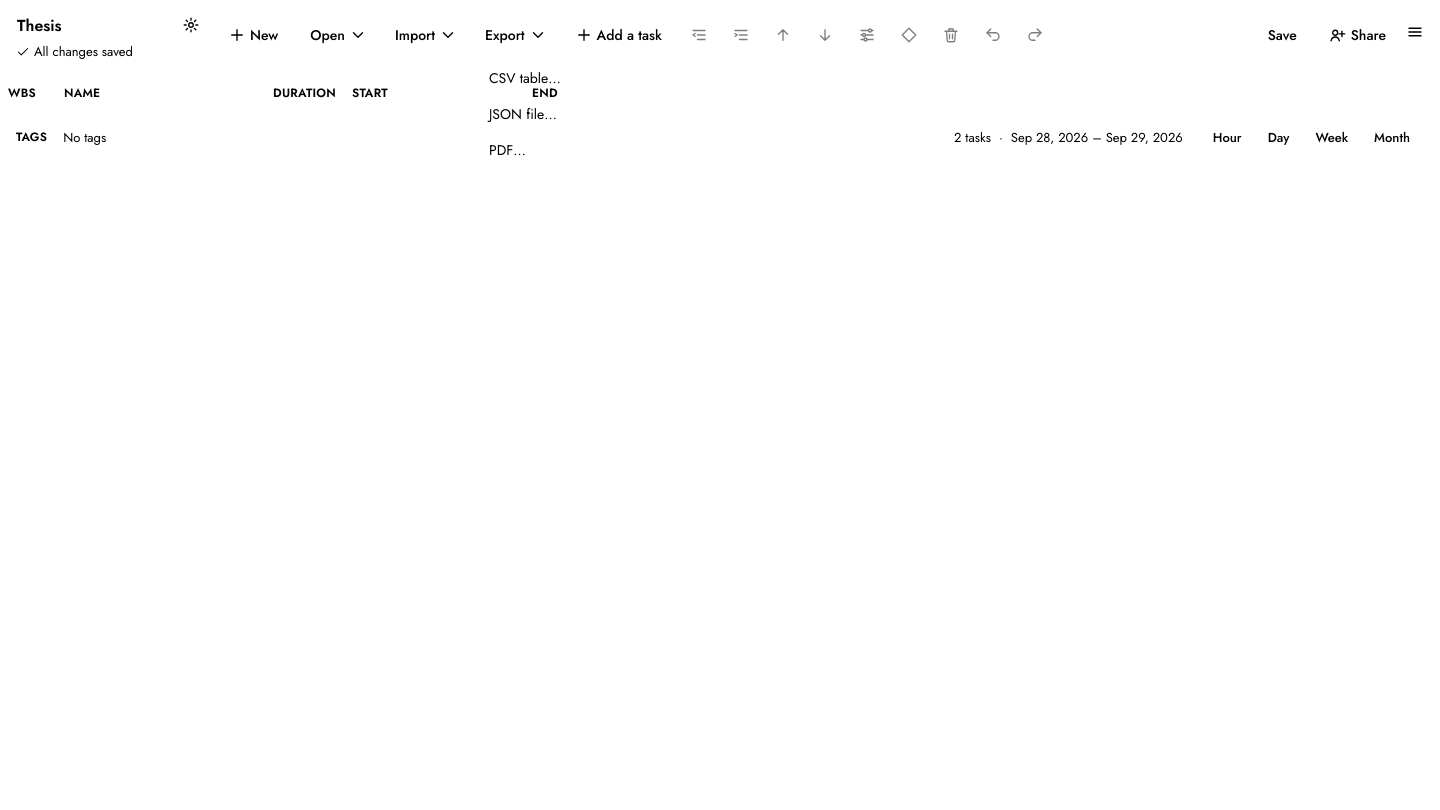
Test case: the export to PDF › prints chosen days, keeps them when a date cannot be read, and explains days that end before they start
The width and height of the screenshot is (1440, 810).
Click the menu item "PDF…".
click(563, 150)  # box [477,132,649,168]
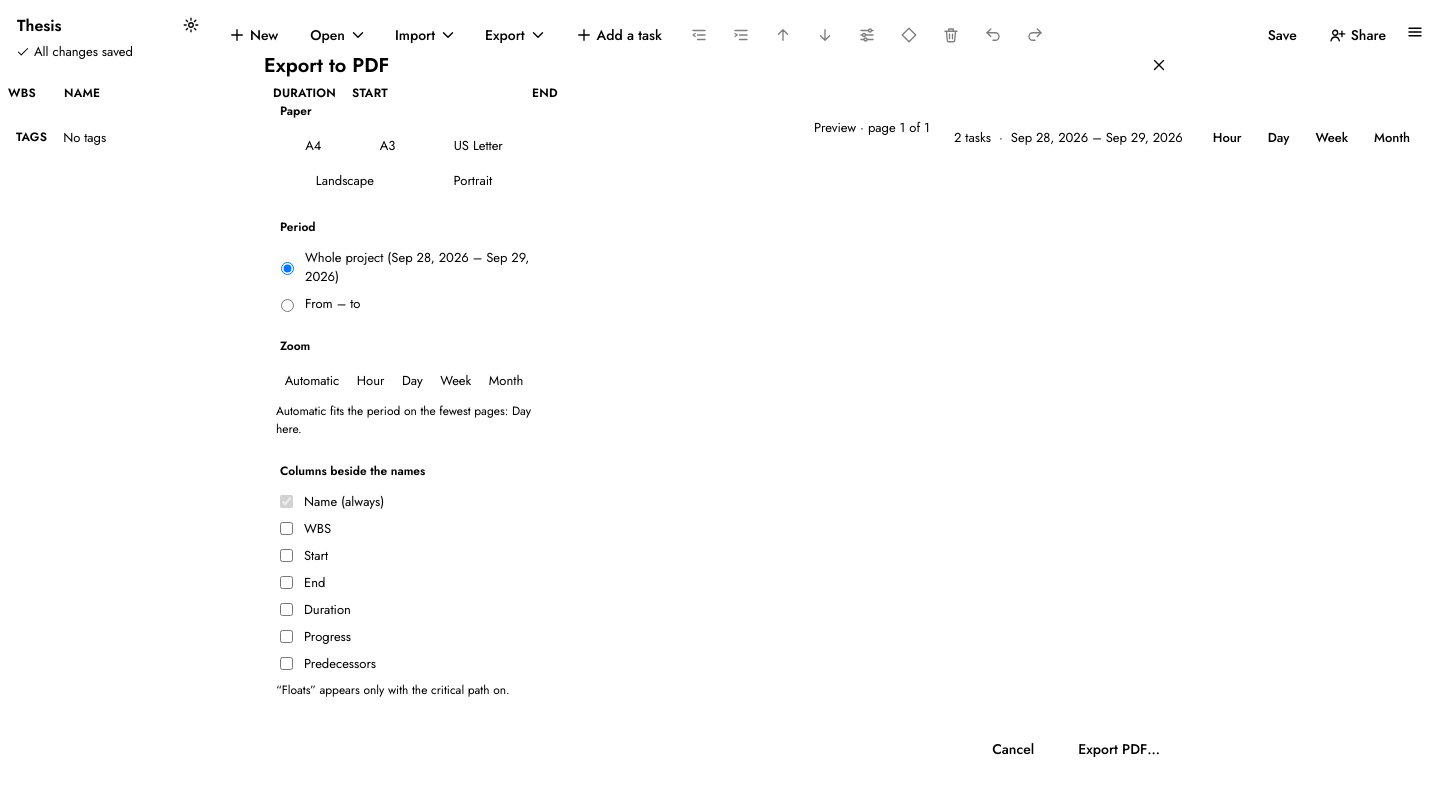
Click the radio button labelled "From – to".
click(288, 305)  # box [281,298,294,312]
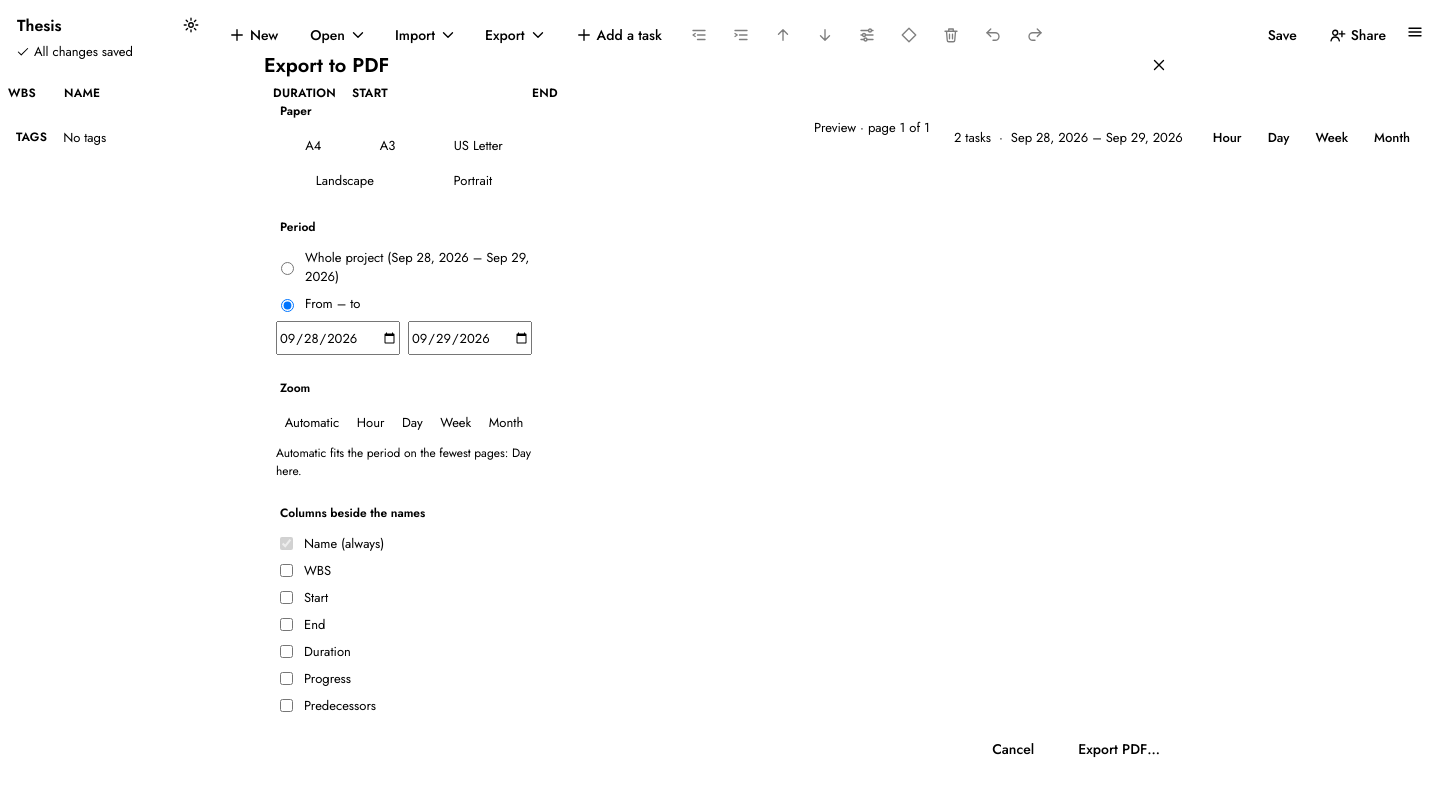
Clear the date field named "First day printed" at point(338, 338), box [276,321,400,355]
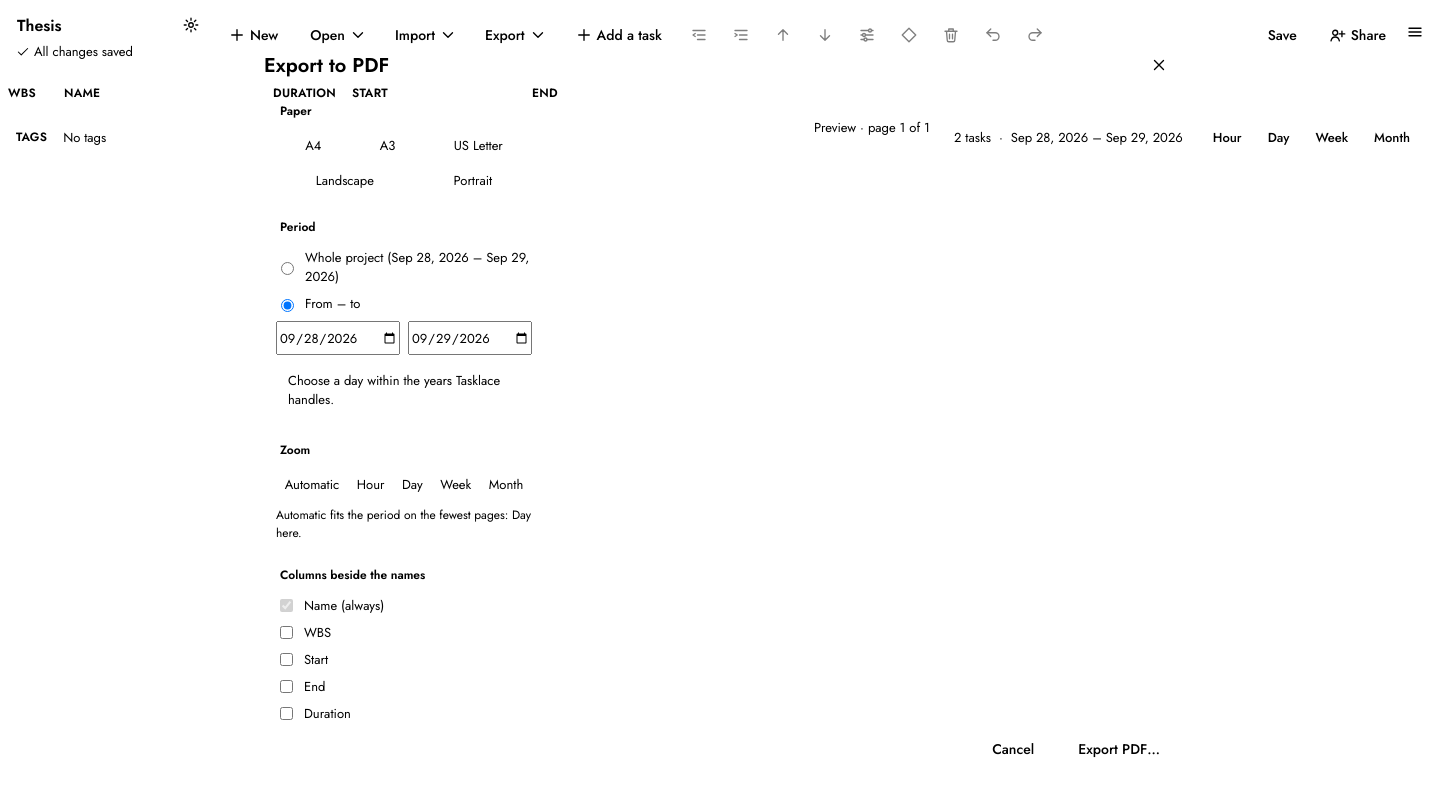
Type "2026-10-05" into the date field named "First day printed".
click(338, 338); type("2026-10-05")  # box [276,321,400,355]
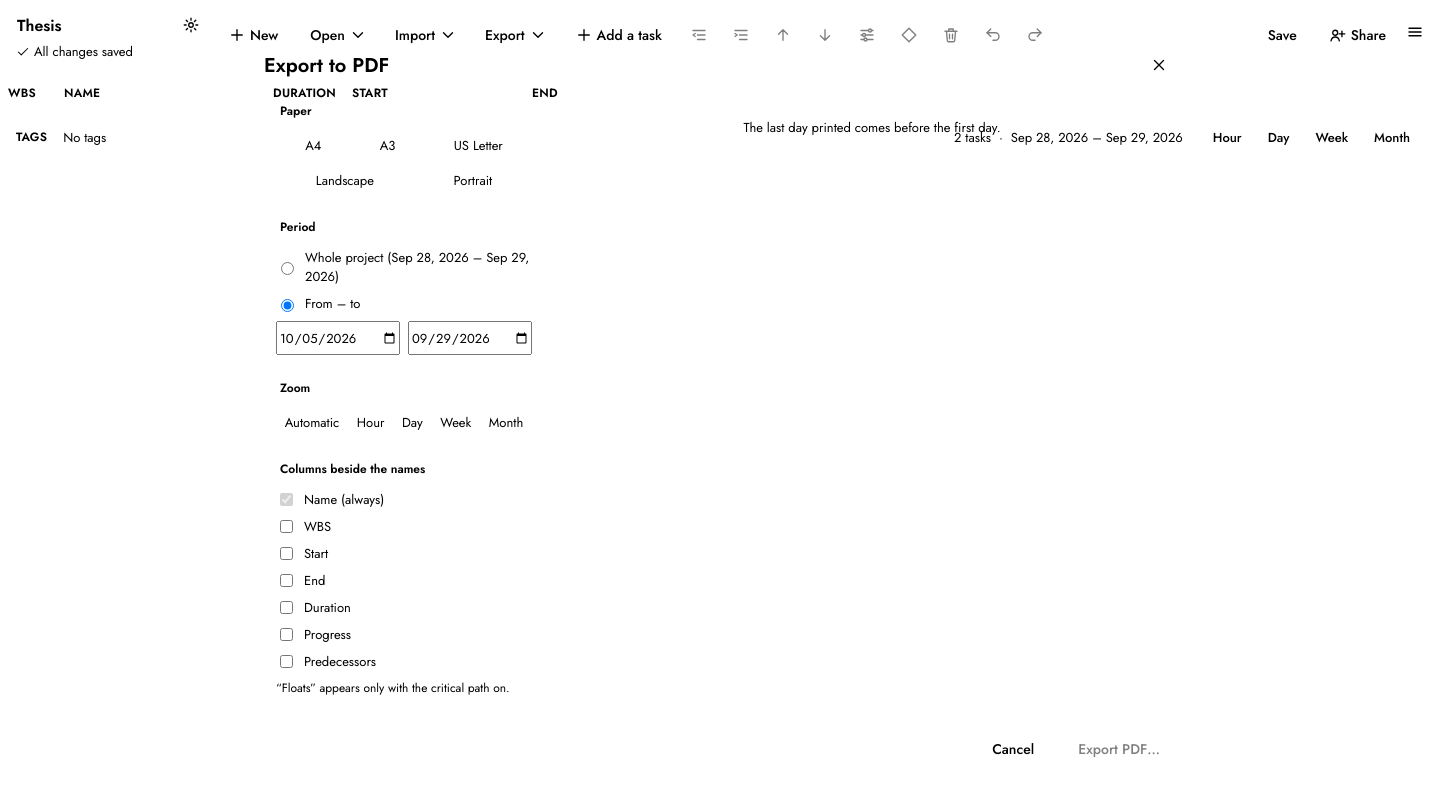
expect the message "The last day printed comes before the first day." is shown: met, box [743,118,1001,137]
Click the radio button labelled "Whole project (Sep 28, 2026 – Sep 29, 2026)".
click(288, 268)  # box [281,262,294,275]
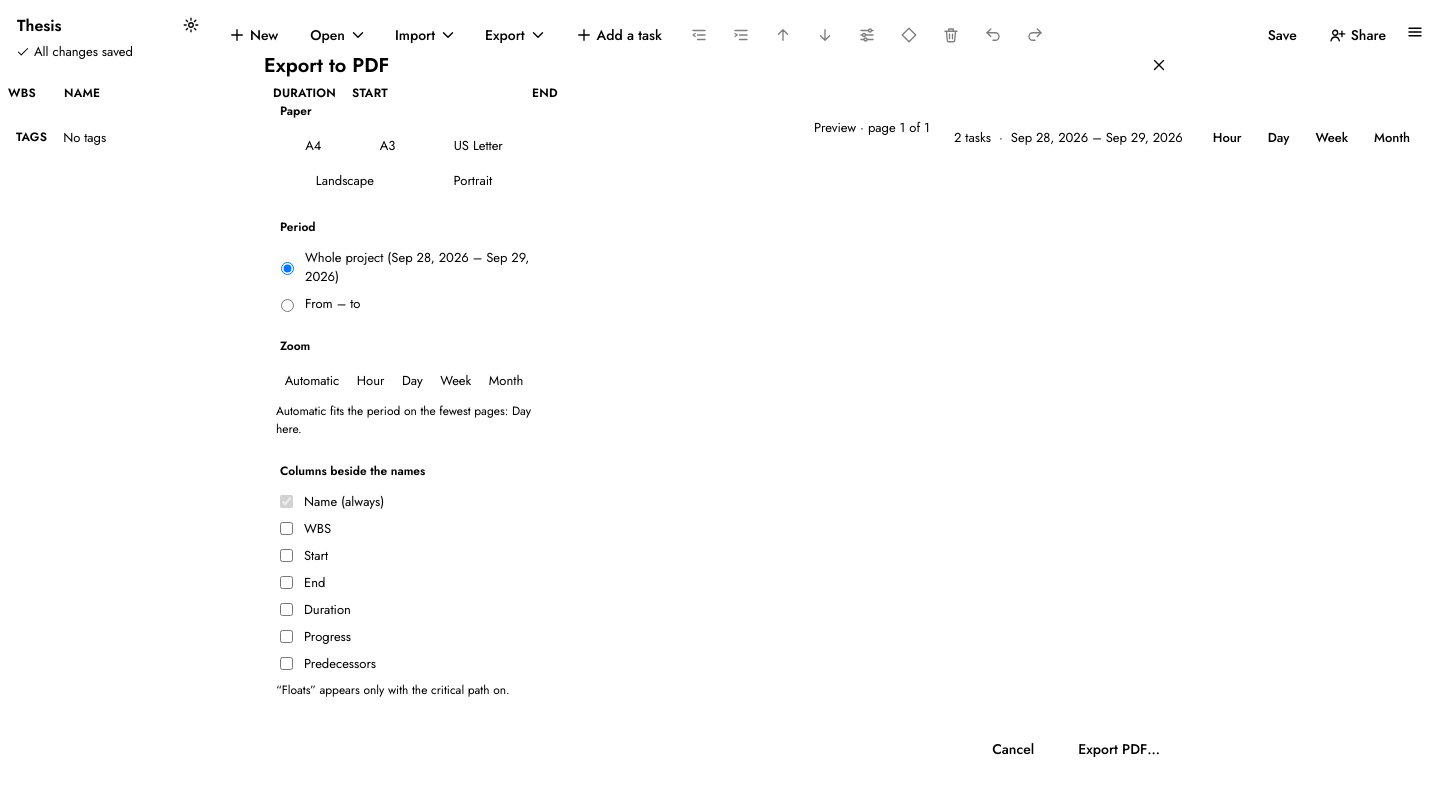
expect the message "The last day printed comes before the first day." is gone: met
